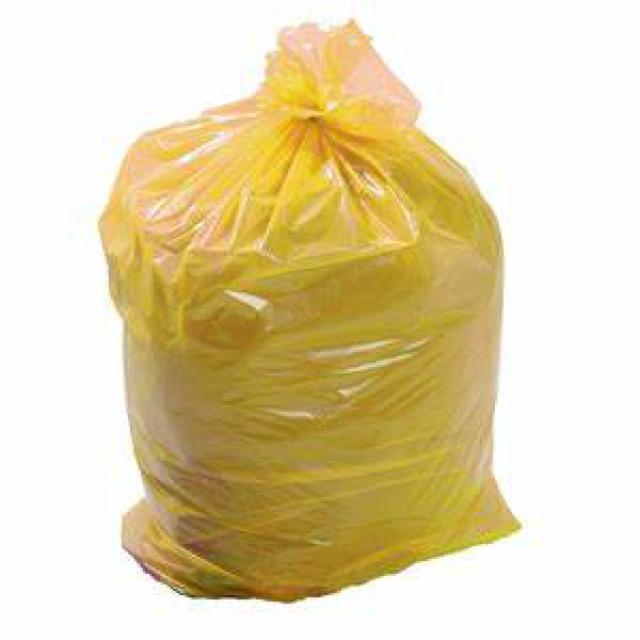waste: (106, 18, 509, 591)
